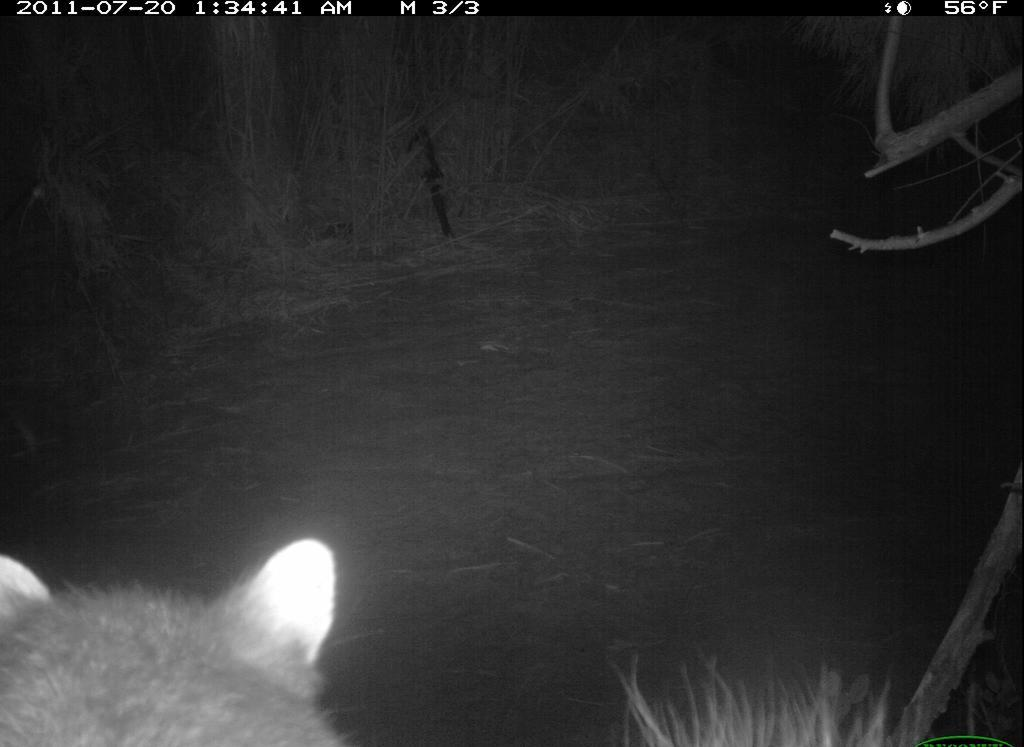raccoon: (11, 509, 406, 740)
